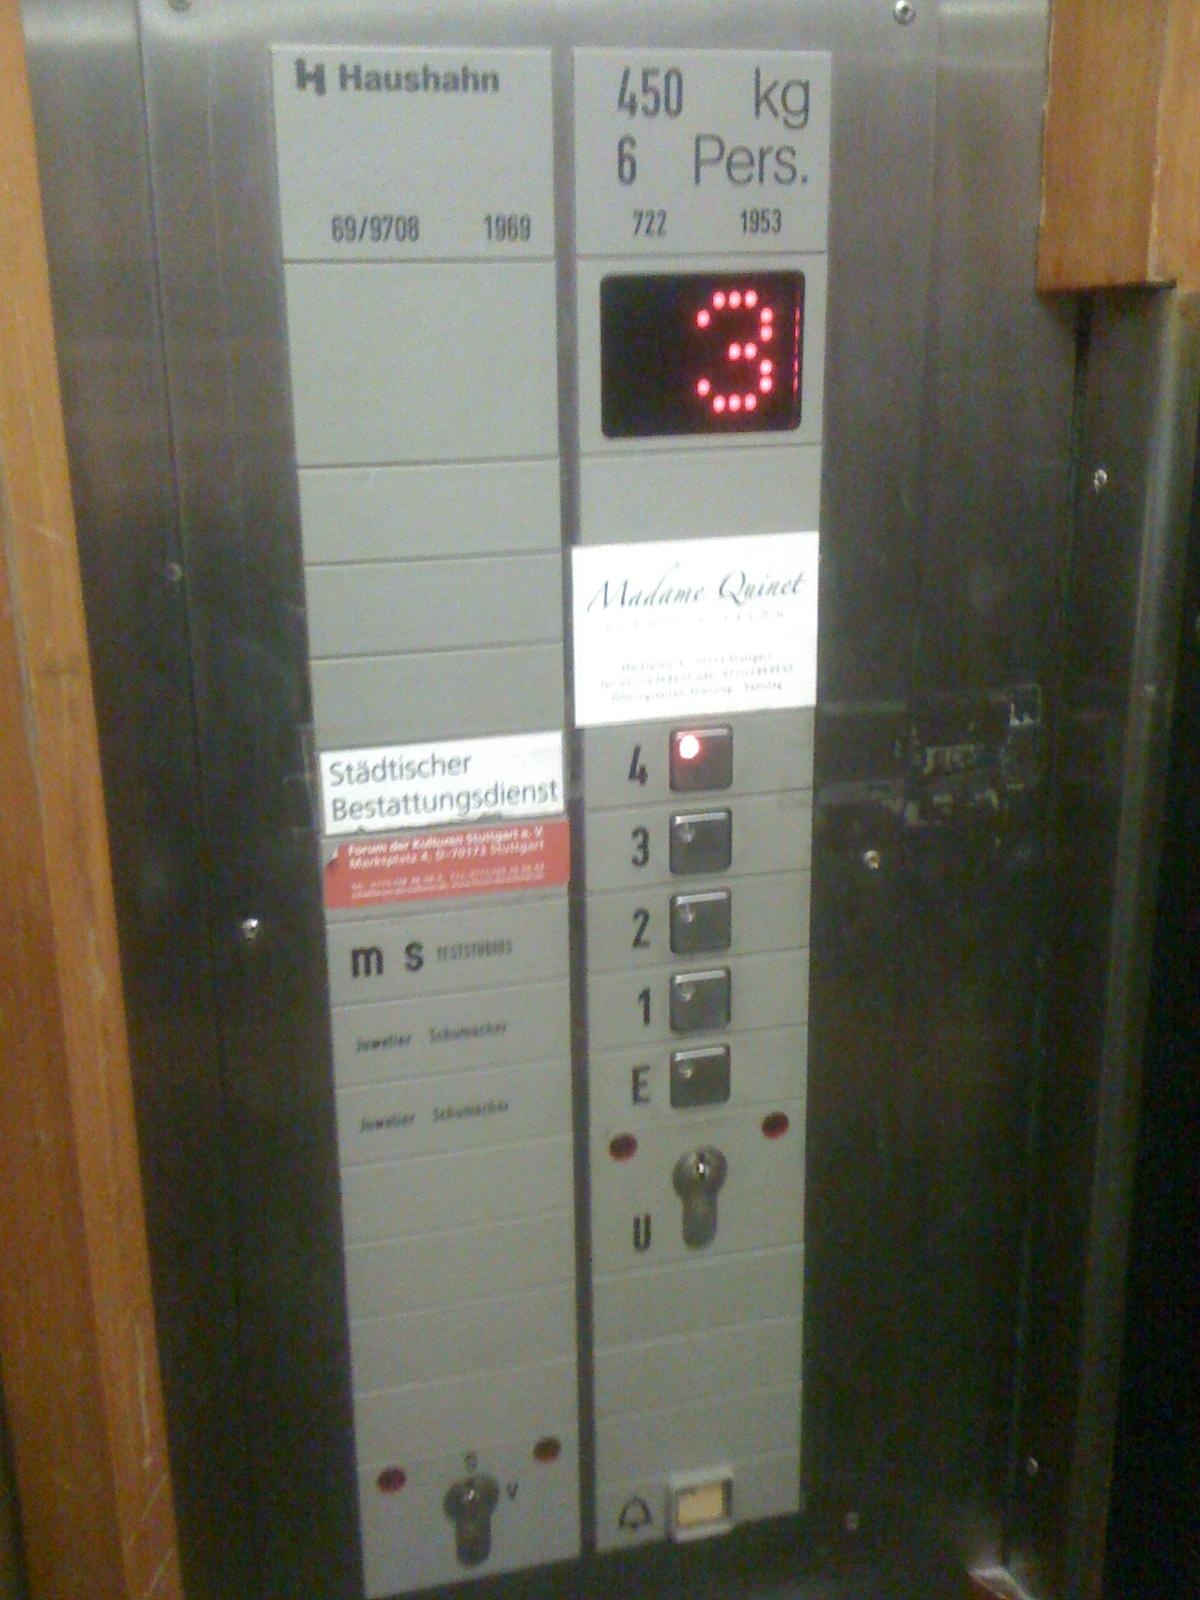1: (576, 940, 818, 1054)
2: (577, 781, 818, 902)
3: (577, 863, 818, 979)
4: (577, 703, 818, 814)
E: (575, 1019, 818, 1134)
alarm: (589, 1443, 805, 1558)
keyhole: (435, 1471, 512, 1570), (671, 1140, 736, 1254)
led: (596, 265, 809, 445)
